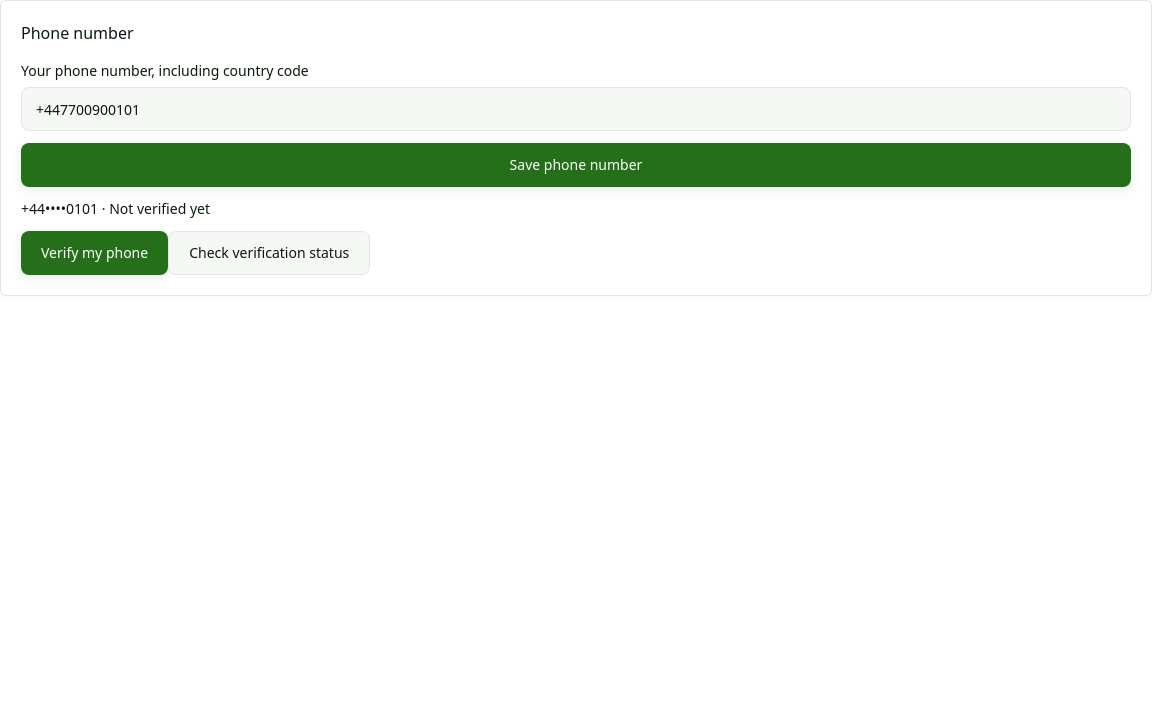
saves a changed phone, clears code and reports failed issuance without secret state
Click the button "Verify my phone".
click(95, 253)  # box top-left (21, 231), bottom-right (168, 275)
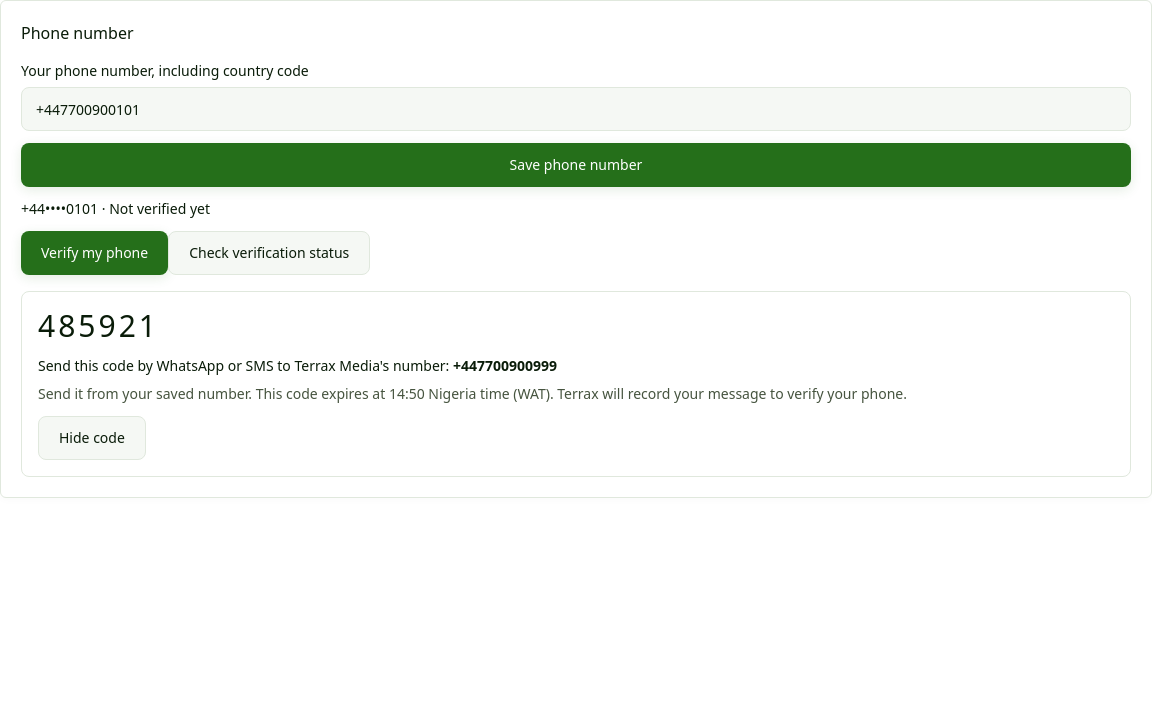
Expected: the text "485921" is shown, top-left (38, 305), bottom-right (159, 346)
Replace the text in the field labelled "Your phone number, including country code" with "+447700900102" at [576, 109], box top-left (21, 87), bottom-right (1131, 131)
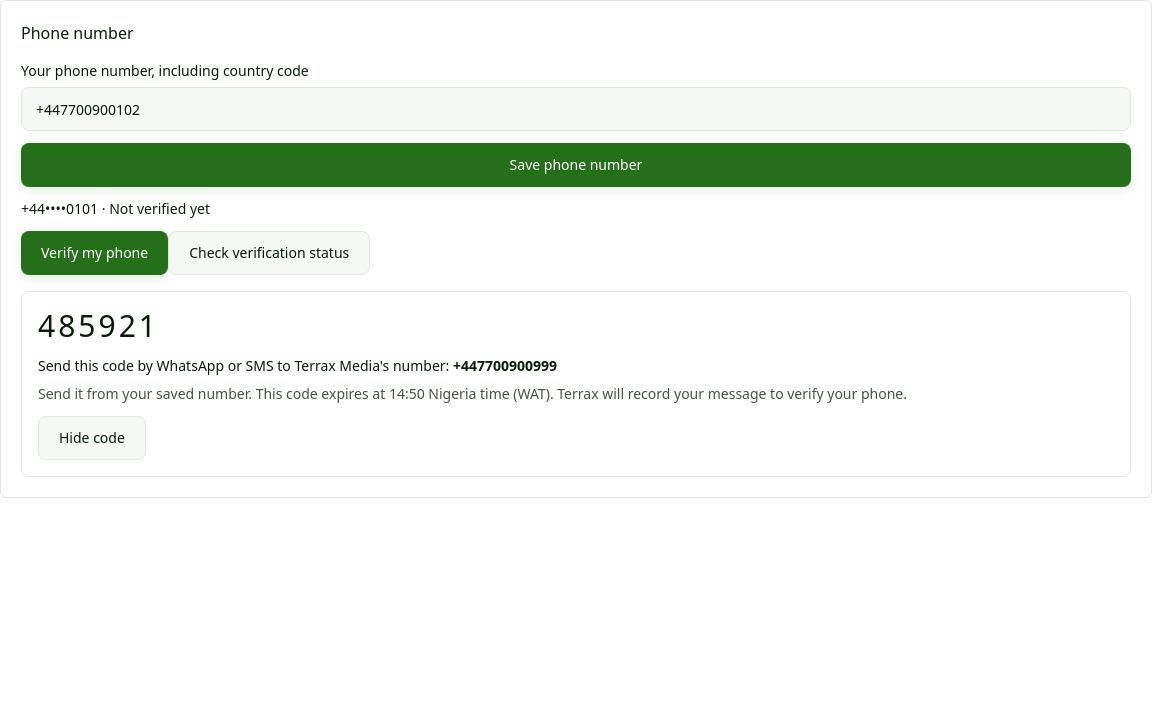
Submit the form labelled "Your phone number, including country code Save phone number", box top-left (21, 61), bottom-right (1131, 187)
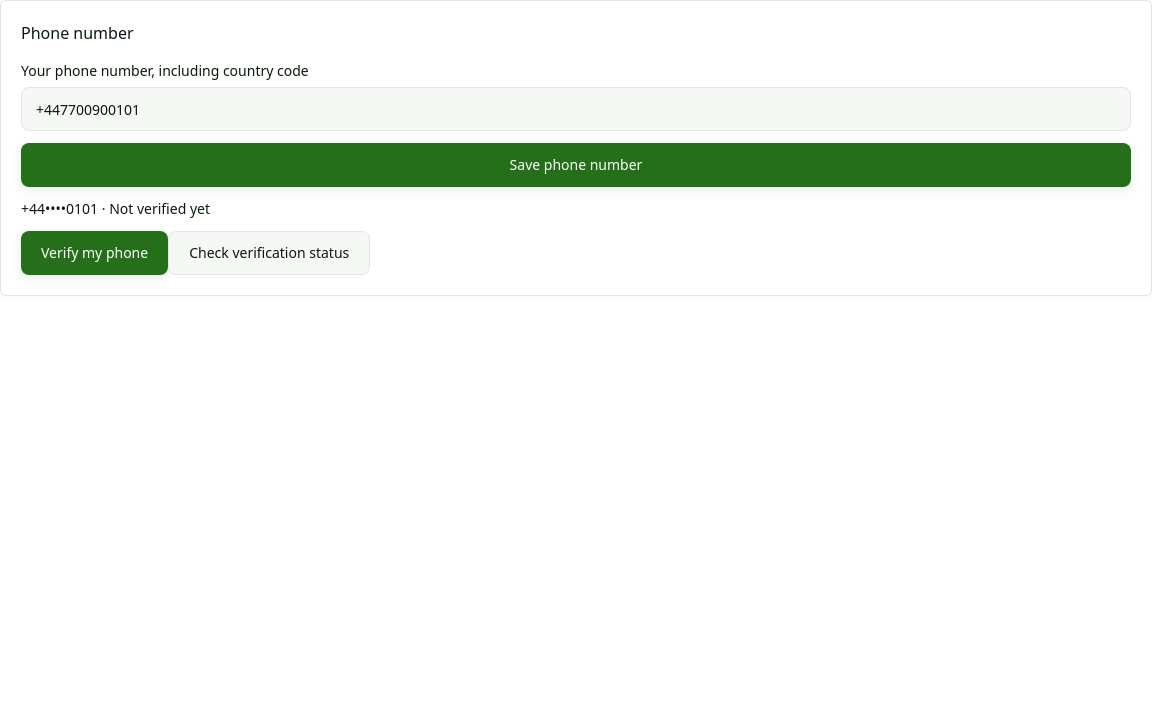
Expected: the text "485921" is gone
Click the button "Verify my phone".
click(95, 253)  # box top-left (21, 231), bottom-right (168, 275)
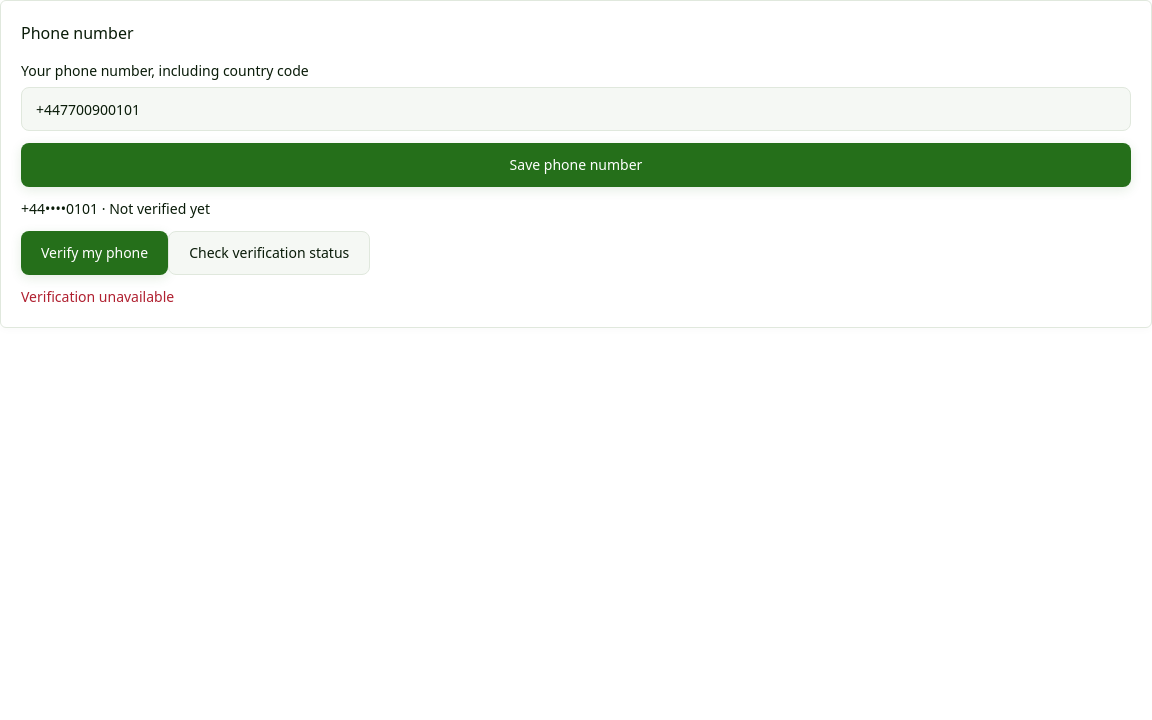
Expected: the text "485921" is not shown
Expected: the message "Verification unavailable" is shown, top-left (21, 287), bottom-right (174, 306)
